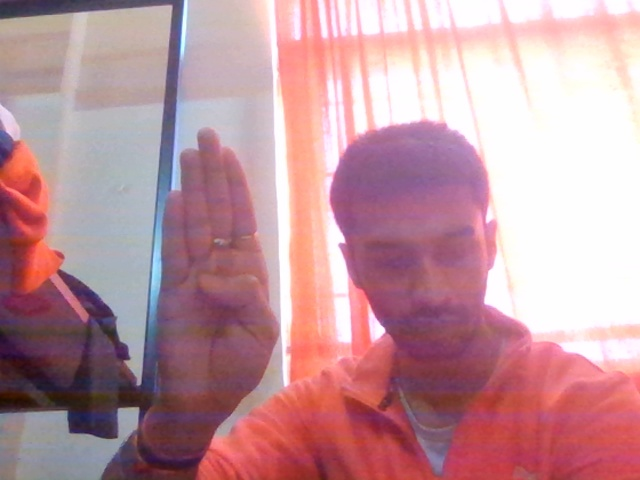B: (117, 105, 304, 433)
